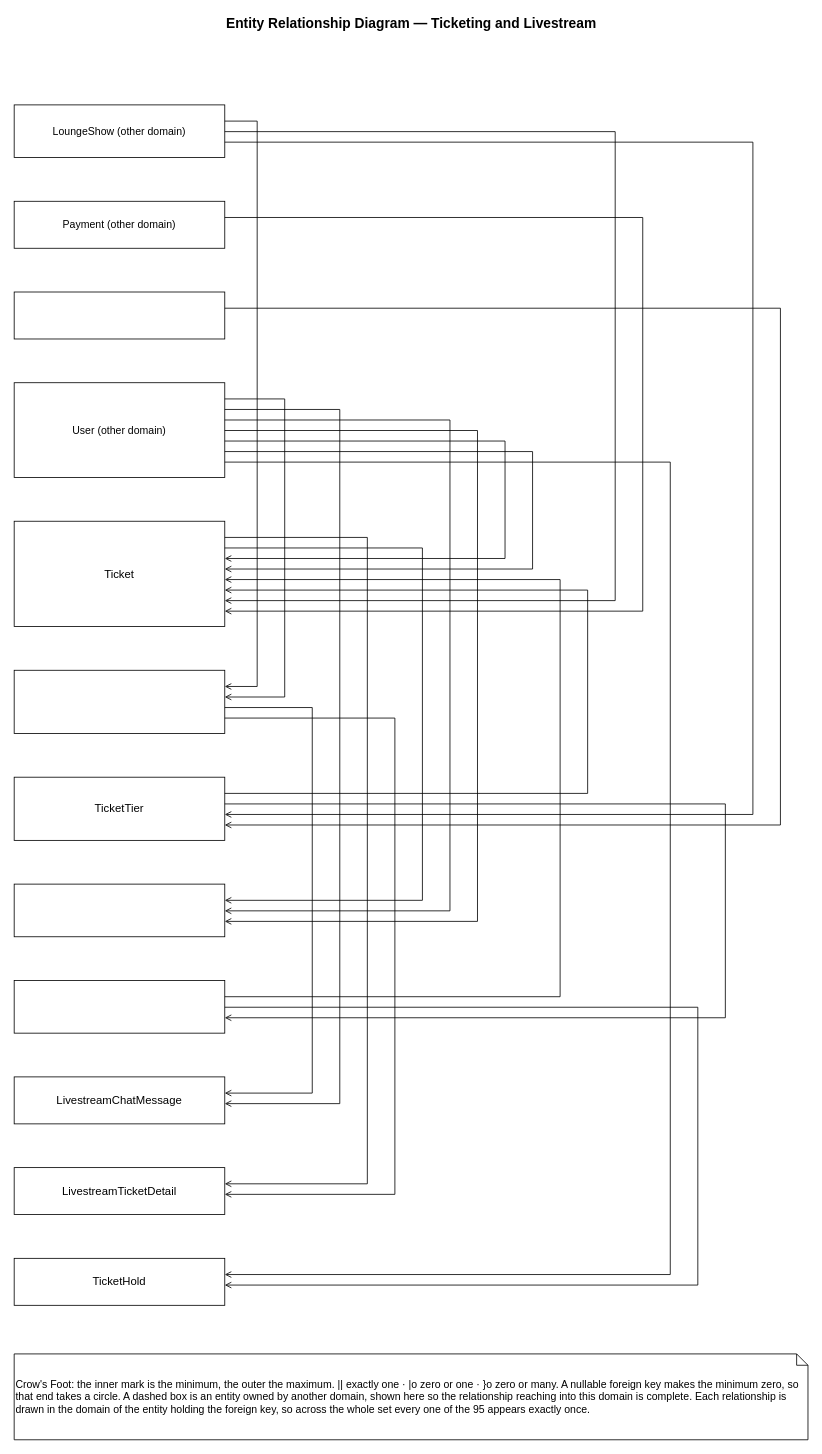
Some shapes in this 822 by 1454 pixel diagram are drawn without their labels. The centre of each missing label's shape, as x and y in pixels:
"Livestream" belongs at point (119, 701).
"PhysicalTicketDetail" belongs at point (119, 910).
"SeatingZone (other domain)" belongs at point (119, 315).
"TicketPrice" belongs at point (119, 1006).
